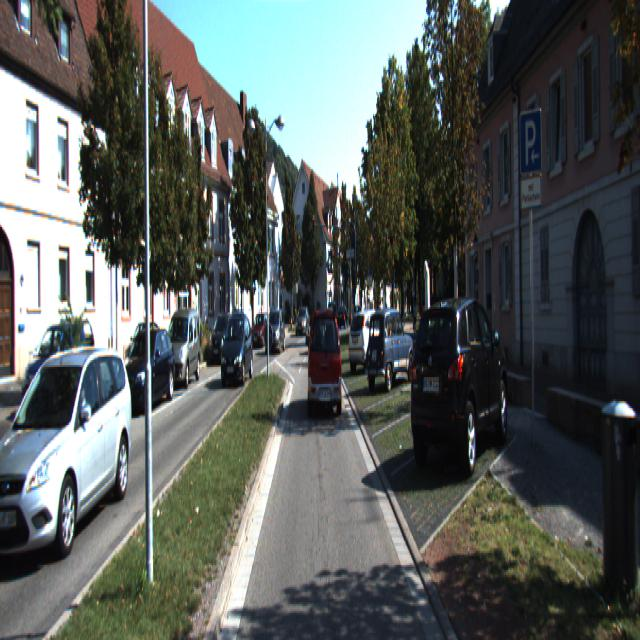Car: (0, 331, 138, 563), (407, 290, 511, 478), (21, 319, 89, 413), (114, 325, 177, 417), (365, 305, 417, 393), (34, 316, 98, 379), (308, 309, 343, 418), (162, 308, 201, 392), (347, 309, 392, 372), (220, 310, 254, 386), (208, 311, 237, 364), (265, 308, 286, 354), (249, 313, 273, 349), (295, 307, 311, 336), (336, 304, 348, 329)
